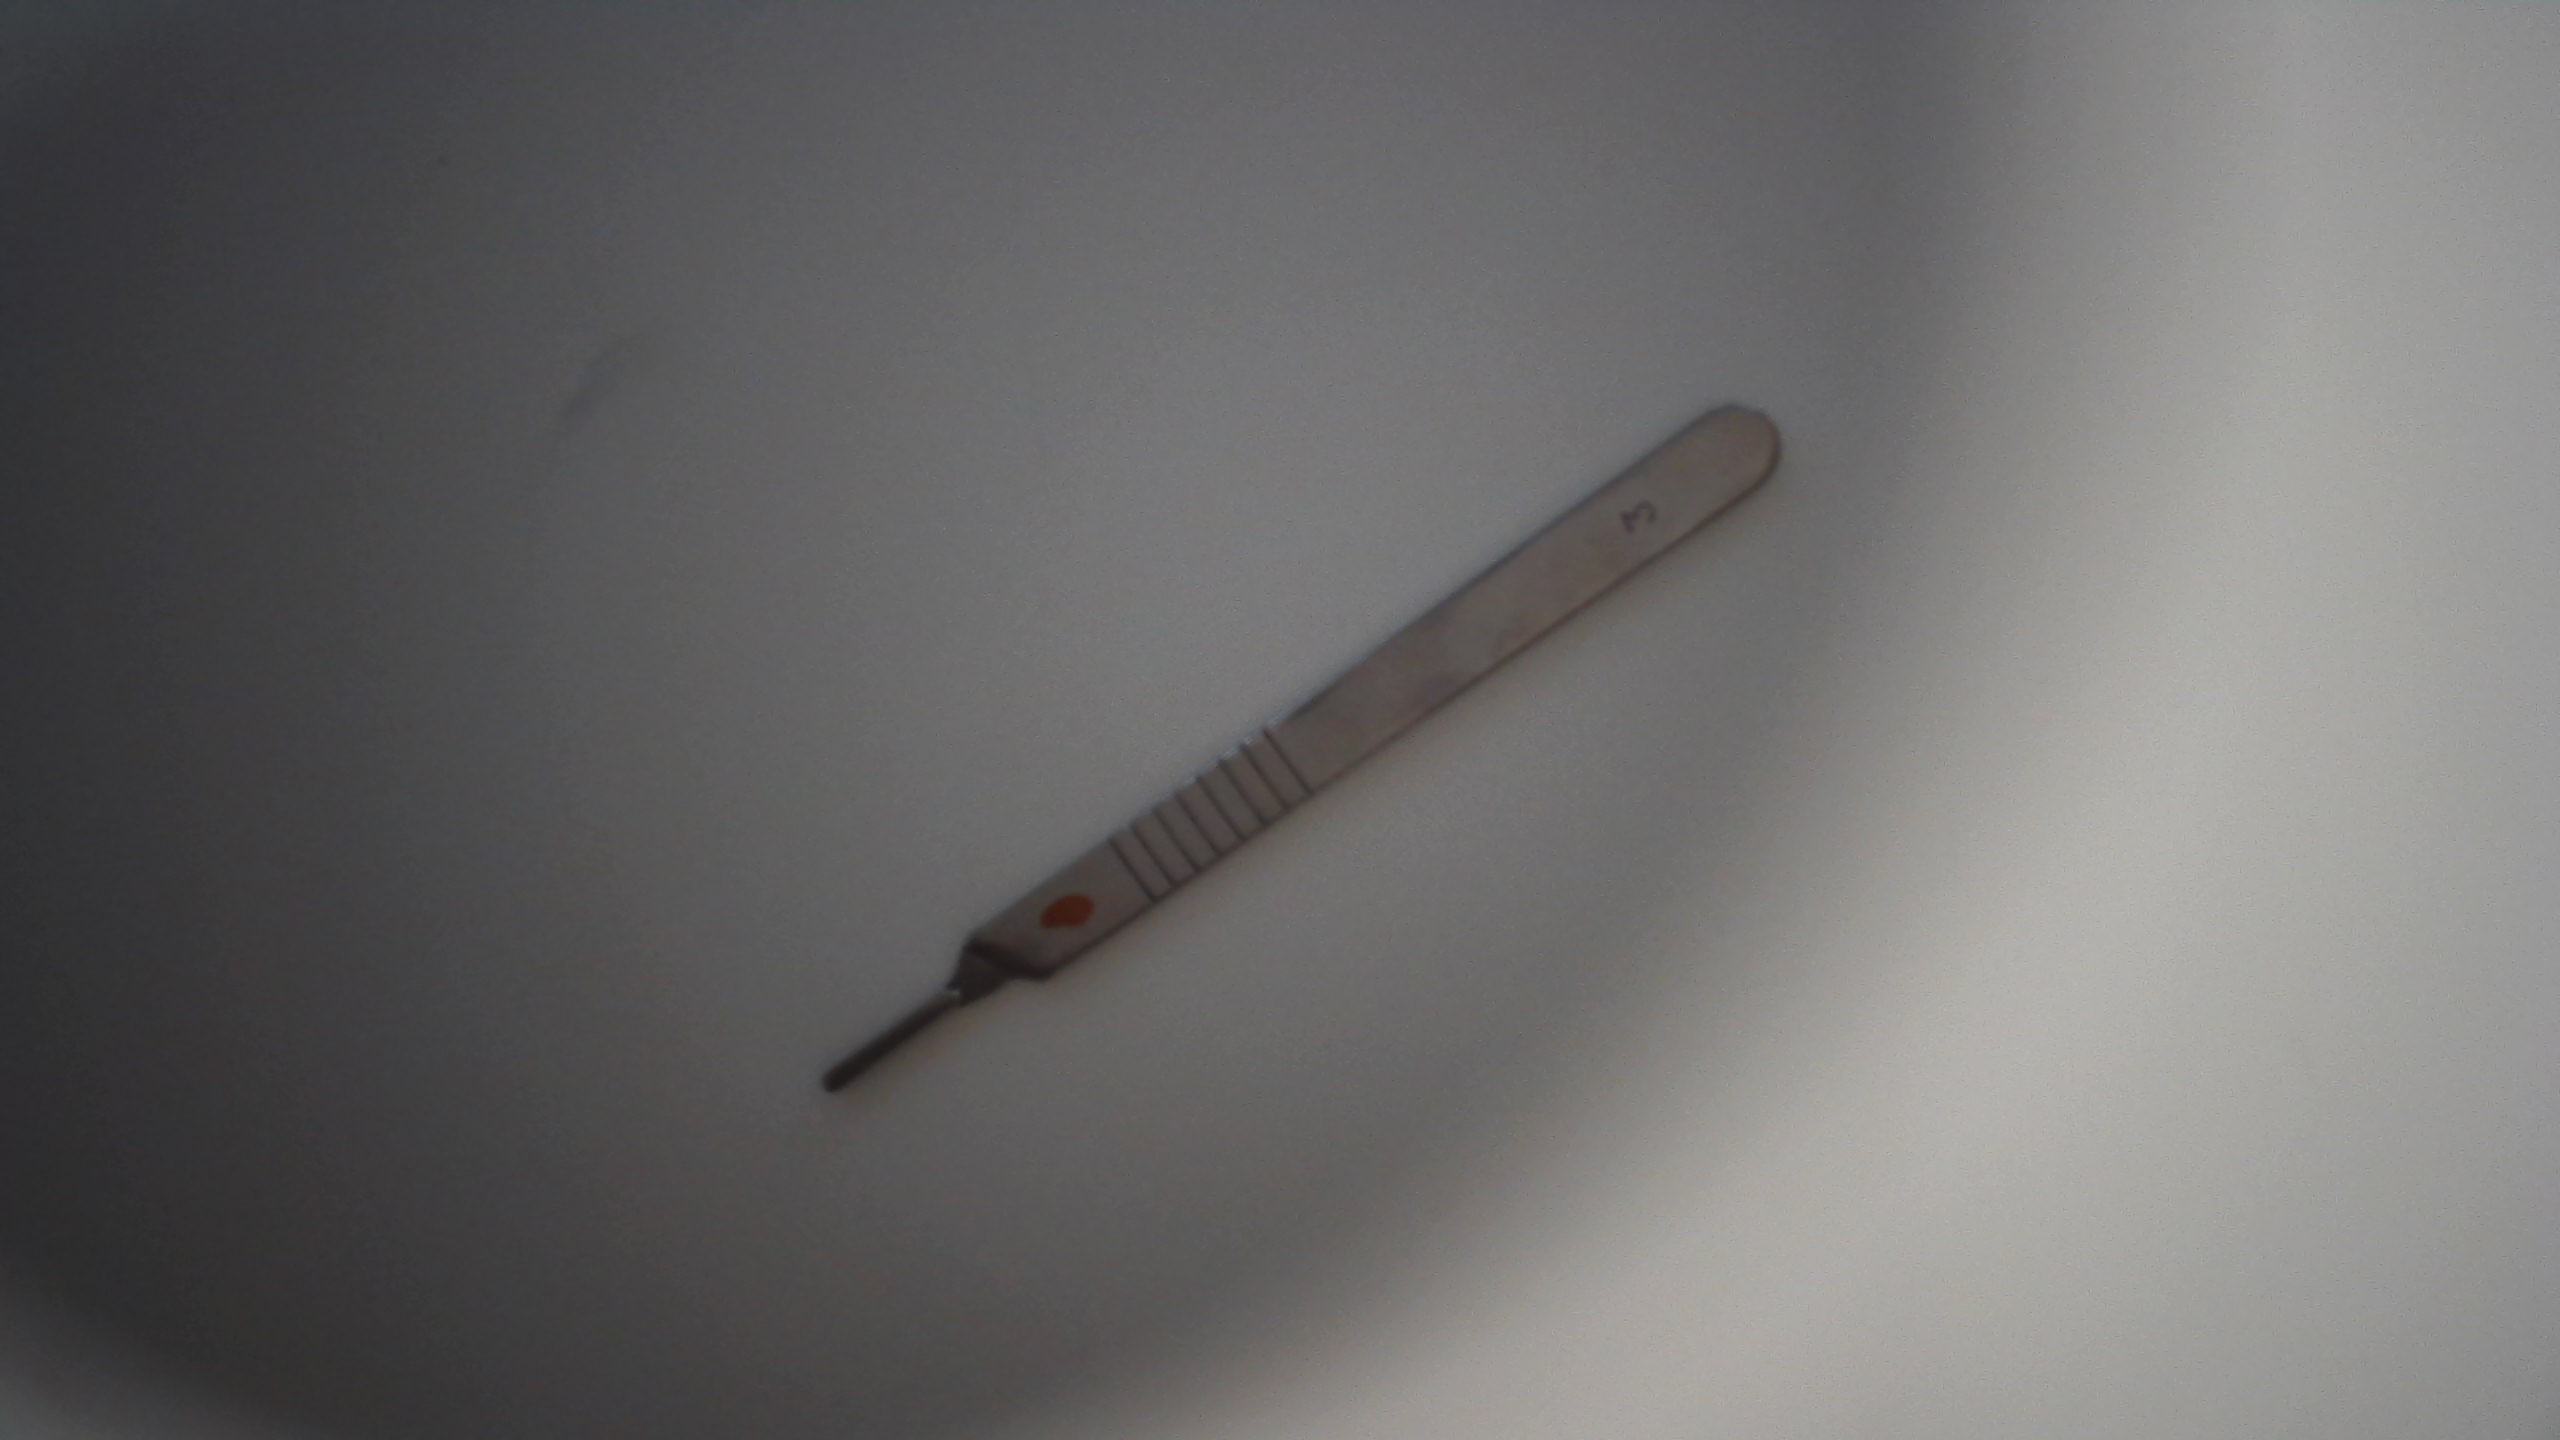Stain: (1037, 881, 1104, 934)
